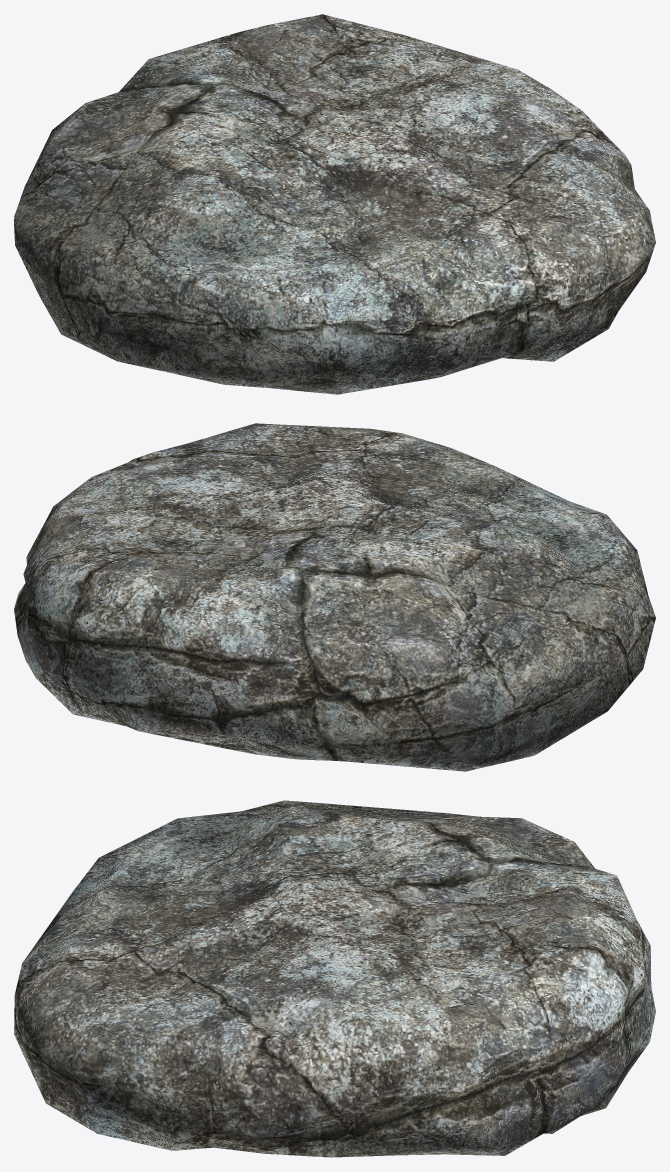
The model's file is Rock6B.fbx.
3 renders of one model, top to bottom at view 1: azimuth 30°, elevation 25°; view 2: azimuth 150°, elevation 25°; view 3: azimuth 270°, elevation 25°, orthographic. The views are drawn at different scales.
Parts seen in each view (by area): view 1: polySurface16; view 2: polySurface16; view 3: polySurface16.
Boxes of the visible parts, bbox=[...] form: polySurface16: bbox=[14, 14, 655, 394]; polySurface16: bbox=[14, 423, 655, 771]; polySurface16: bbox=[14, 800, 655, 1157].
Bounding box in the file's own units: 11.59 × 3.78 × 11.1.
